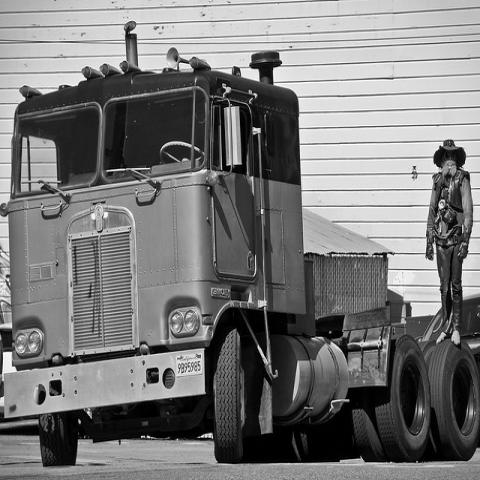truck: (3, 21, 479, 467)
